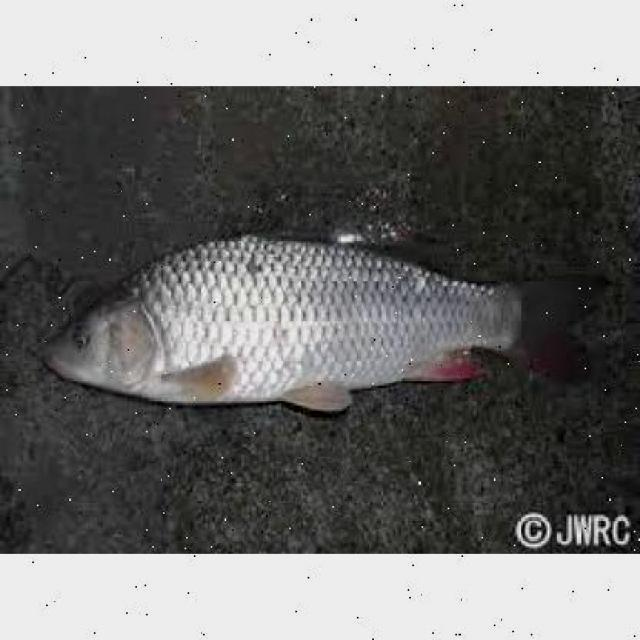ikan-mas: (46, 232, 548, 406)
